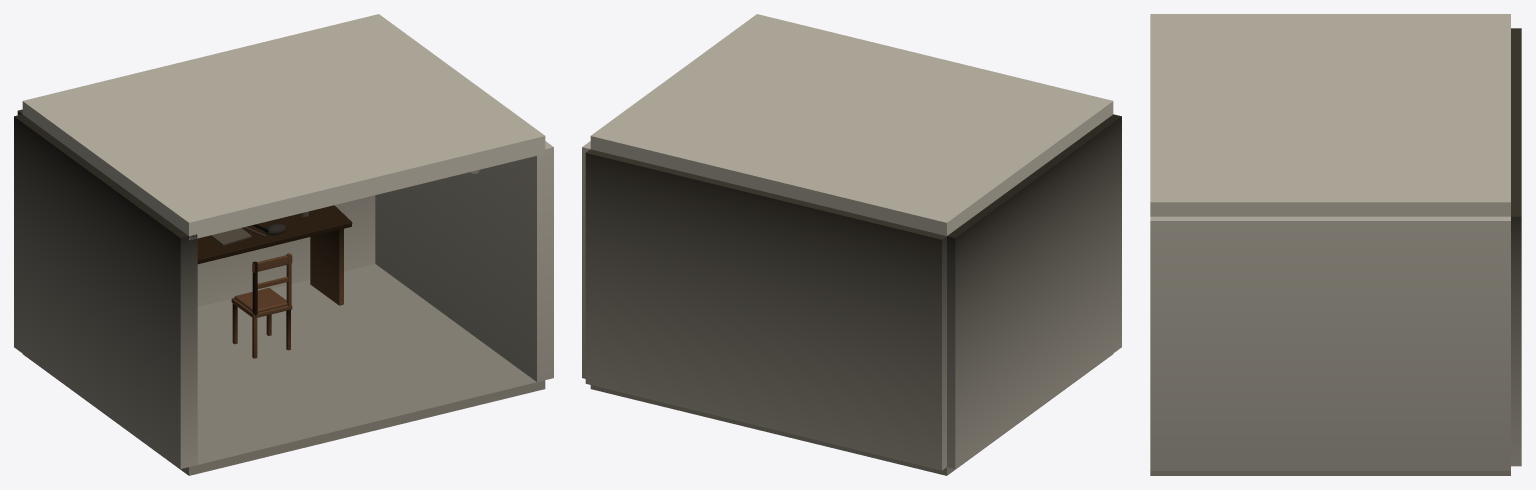
File: hut.glb
The picture shows the model from 3 angles, left to right: view 1: azimuth 30°, elevation 25°; view 2: azimuth 150°, elevation 25°; view 3: azimuth 270°, elevation 25°; orthographic projection. The views are drawn at different scales.
Visible parts, largest first — view 1: hut.concrete.1, hut.concrete.0, hut.plank.3, hut.plank.10, hut.plank.4, hut.fabric.11; view 2: hut.concrete.1, hut.concrete.0; view 3: hut.concrete.1, hut.concrete.0.
Boxes of the visible parts, <box> form: hut.concrete.1: <box>14,14,553,468</box>; hut.concrete.0: <box>23,264,545,475</box>; hut.plank.3: <box>197,205,352,264</box>; hut.plank.10: <box>231,253,292,358</box>; hut.plank.4: <box>310,228,343,305</box>; hut.fabric.11: <box>234,288,287,312</box>; hut.concrete.1: <box>582,14,1121,470</box>; hut.concrete.0: <box>590,354,1112,475</box>; hut.concrete.1: <box>1150,14,1521,470</box>; hut.concrete.0: <box>1150,471,1510,475</box>.
Size of the model in its own units: 4.4 by 2.85 by 3.5.
